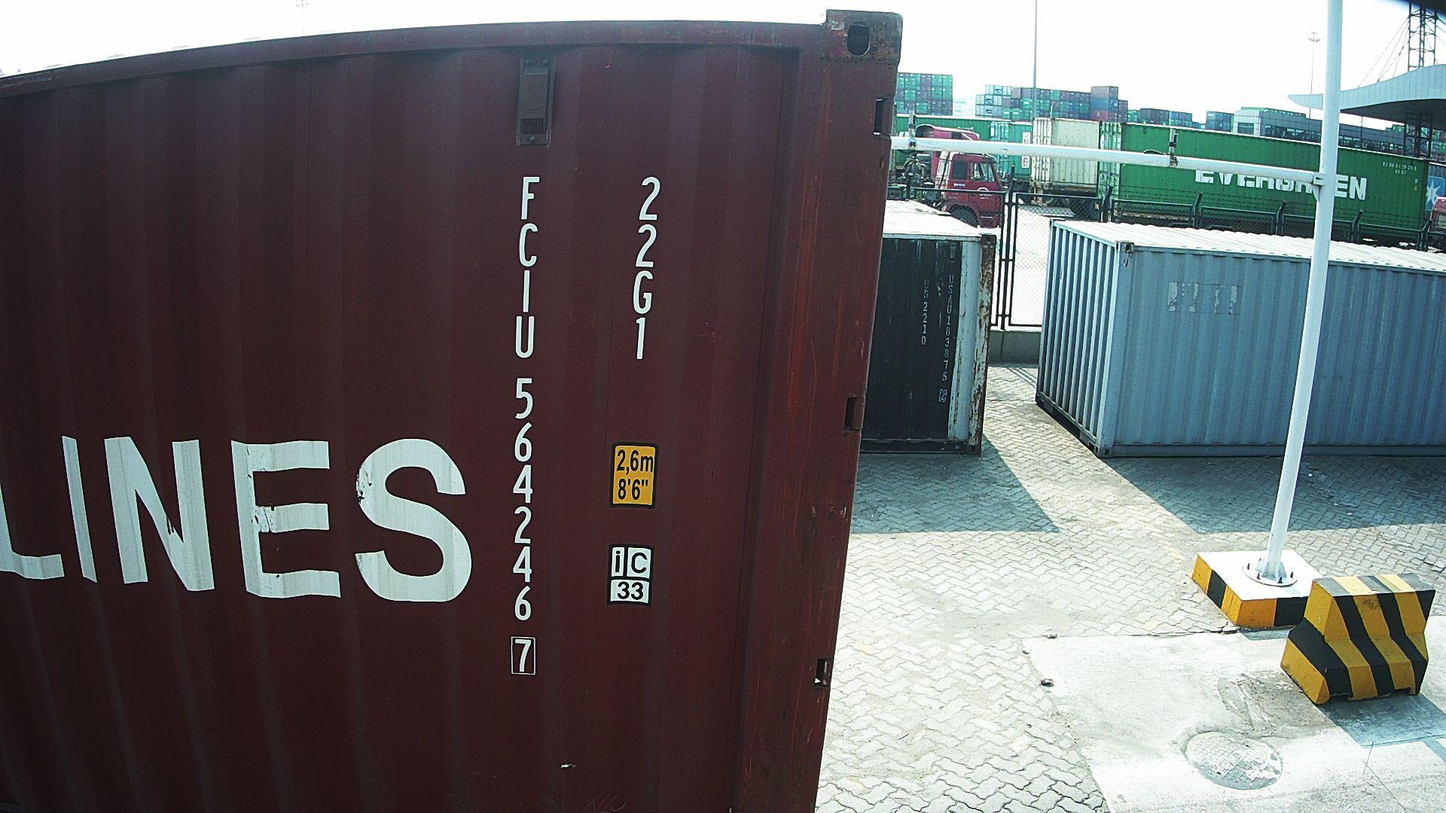container-numbers: (502, 169, 547, 687), (623, 172, 666, 365)
